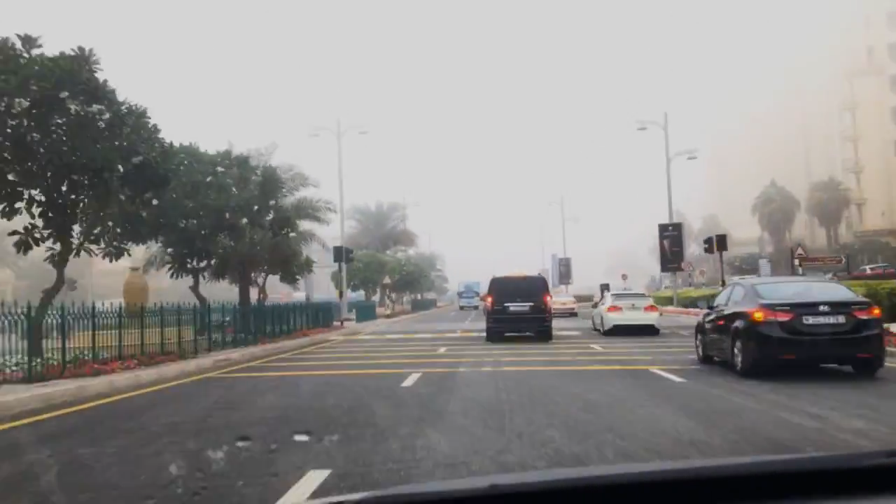car: (691, 273, 889, 383), (480, 271, 556, 345), (590, 287, 663, 339), (454, 280, 482, 312), (545, 292, 579, 318)
